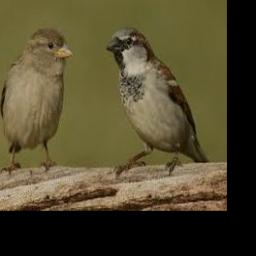Sparrow: (107, 27, 211, 175), (0, 28, 75, 176)
